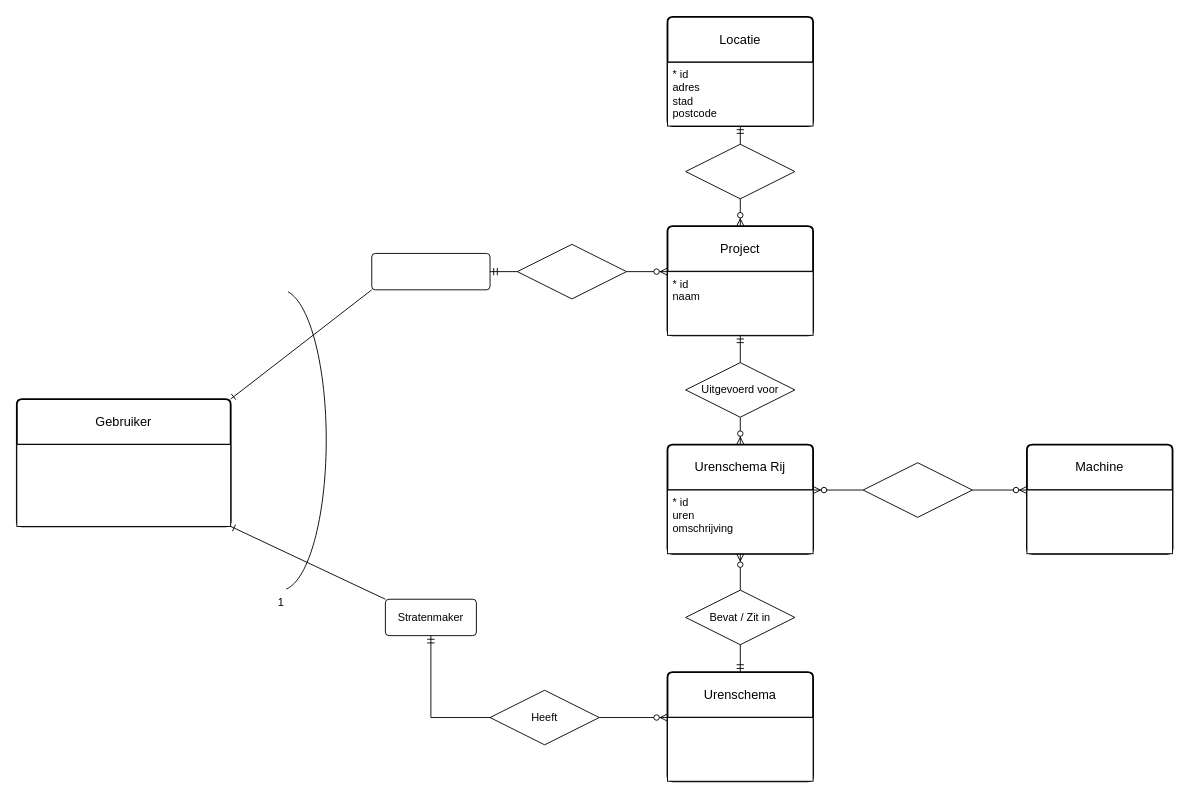
This 1188x797 diagram has some shape labels left out. The shapes that lost their labels are listed below. From the top down, each one's centre as x and y in pixels, then its label:
point 740,171: Vindt plaats
point 430,271: Kantoormedewerker
point 571,271: Beheert
point 123,485: * Gebruikersnaam Emailadres Wachtwoord Voornaam Achternaam
point 917,489: Gebruikt
point 1099,521: * typenummer naam uren-voor-onderhoud keer-onderhoud
point 740,749: * id datum
